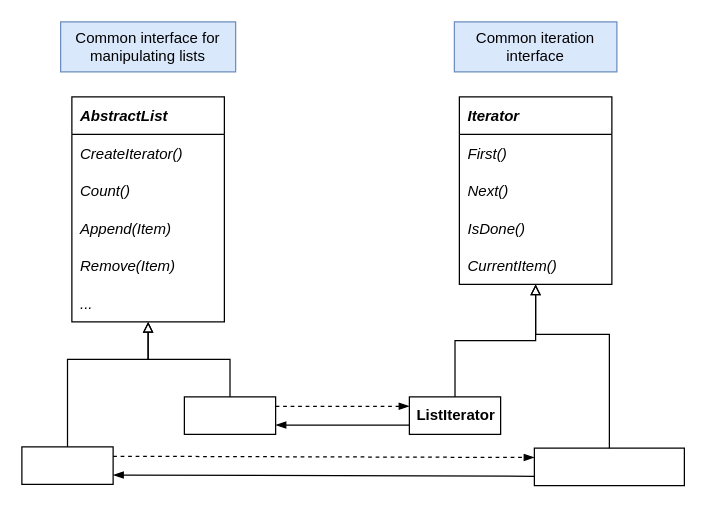
This 706x509 diagram has some shape labels left out. Each missing label, with the centre of its shape:
"List" belongs at point (229, 415).
"SkipList" belongs at point (67, 465).
"SkipListIterator" belongs at point (608, 466).
